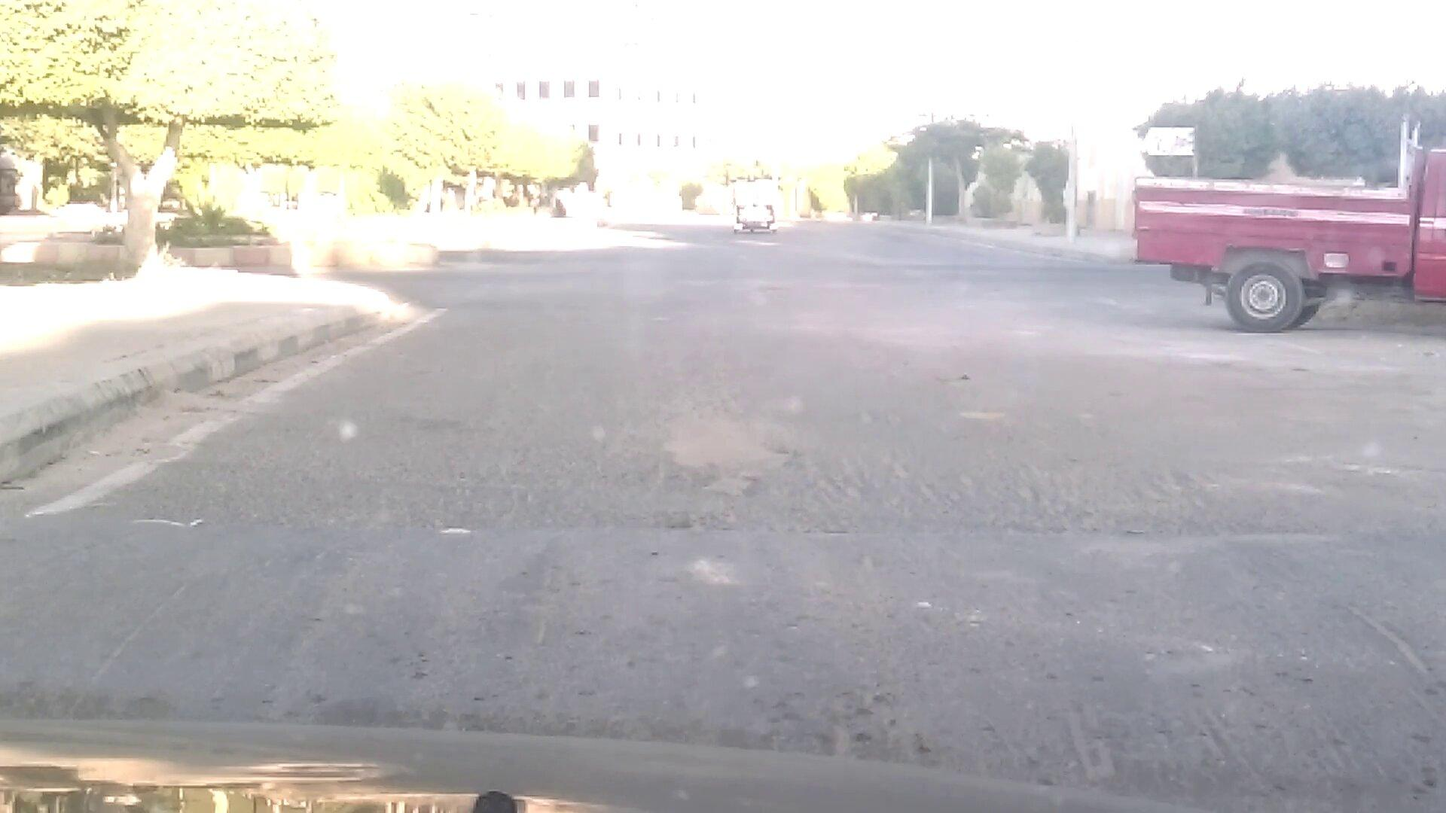Bump: (15, 523, 1446, 813)
